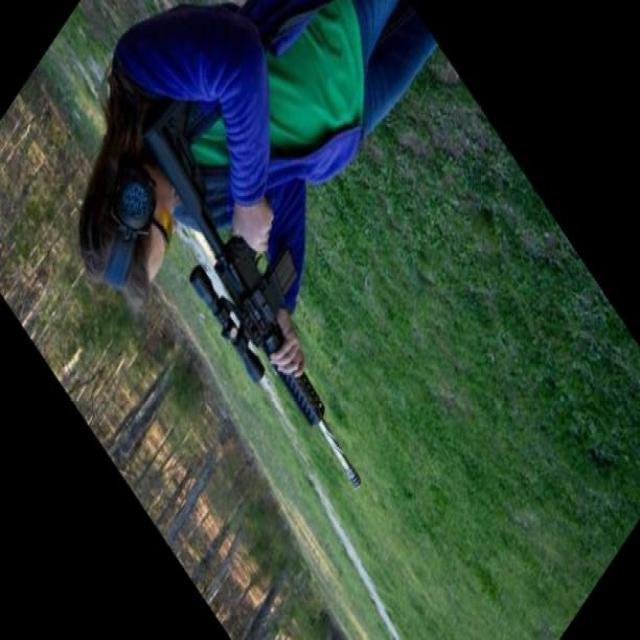weapon: (146, 98, 362, 490)
